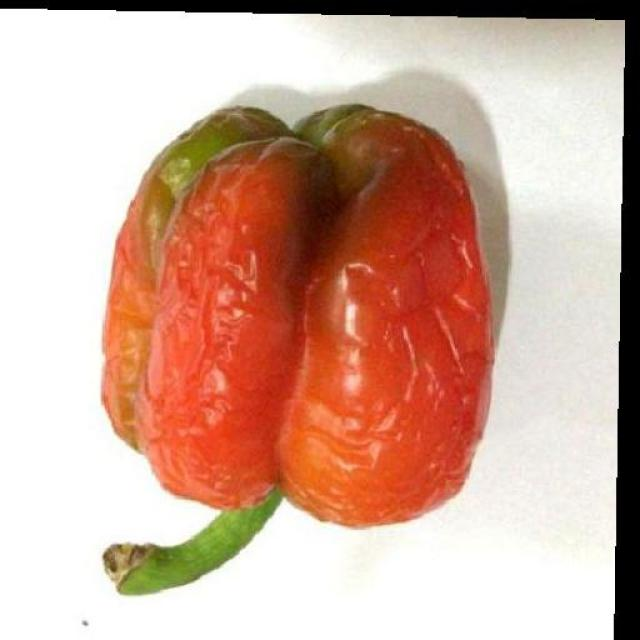Stale_Capsicum: (114, 96, 451, 575)
